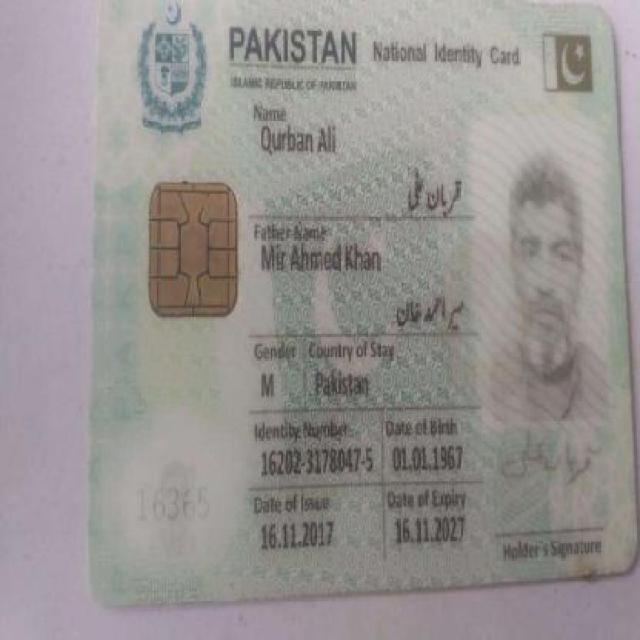Front: (82, 1, 636, 608)
